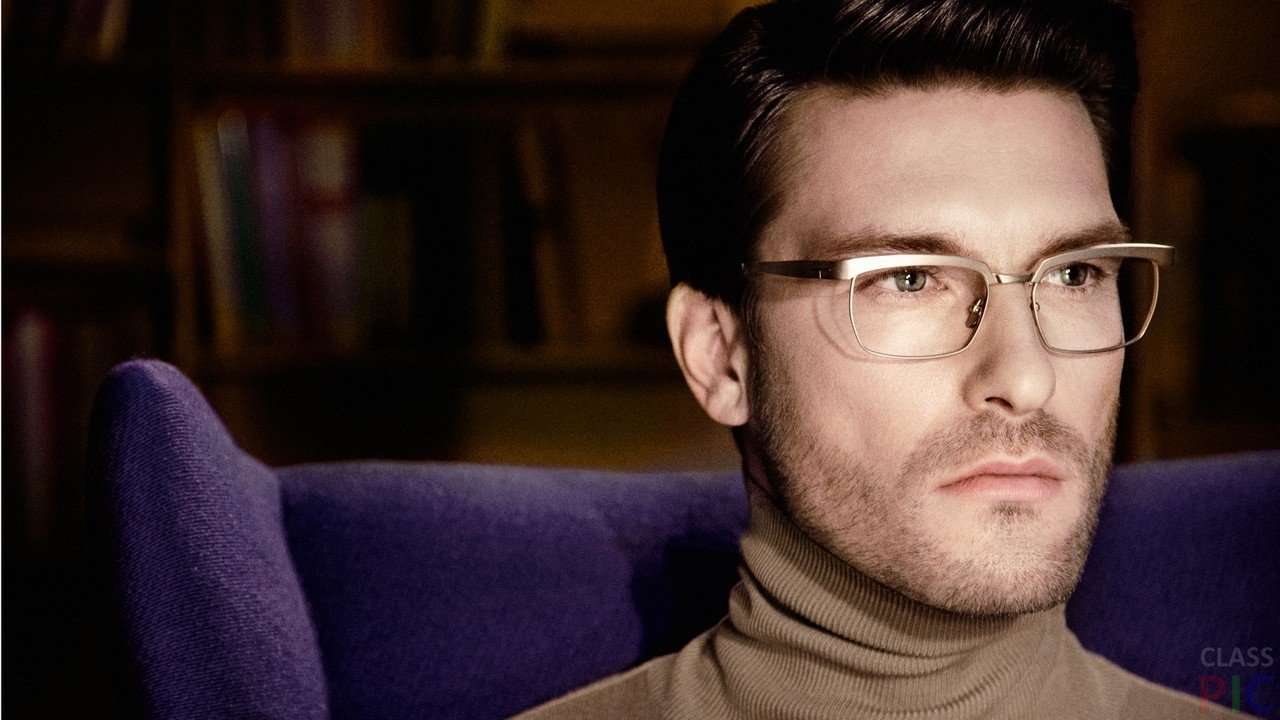glasses: (768, 224, 1201, 381)
